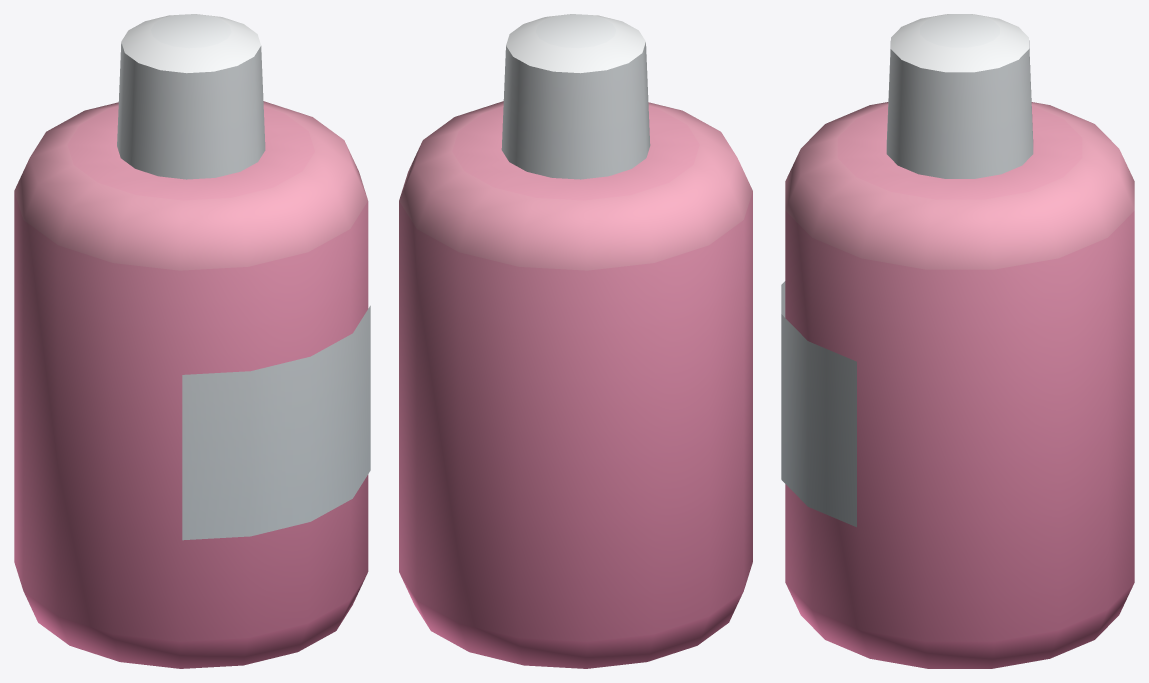
The model's file is container_bathroom_A_pink.fbx.
3 renders of one model, left to right at view 1: azimuth 30°, elevation 25°; view 2: azimuth 150°, elevation 25°; view 3: azimuth 270°, elevation 25°, orthographic.
Parts seen in each view (by area): view 1: container_bathroom_A_pink; view 2: container_bathroom_A_pink; view 3: container_bathroom_A_pink.
Boxes of the visible parts, x1,y1,x2,y2 form: container_bathroom_A_pink: [14, 14, 370, 668]; container_bathroom_A_pink: [399, 14, 752, 668]; container_bathroom_A_pink: [781, 14, 1134, 668].
Bounding box in the file's own units: 0.312 × 0.5778 × 0.3162.
